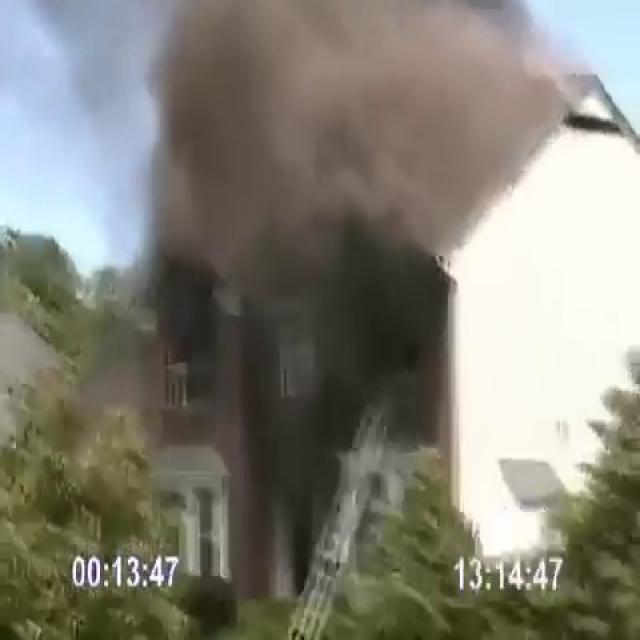Smoke: (124, 1, 578, 327)
